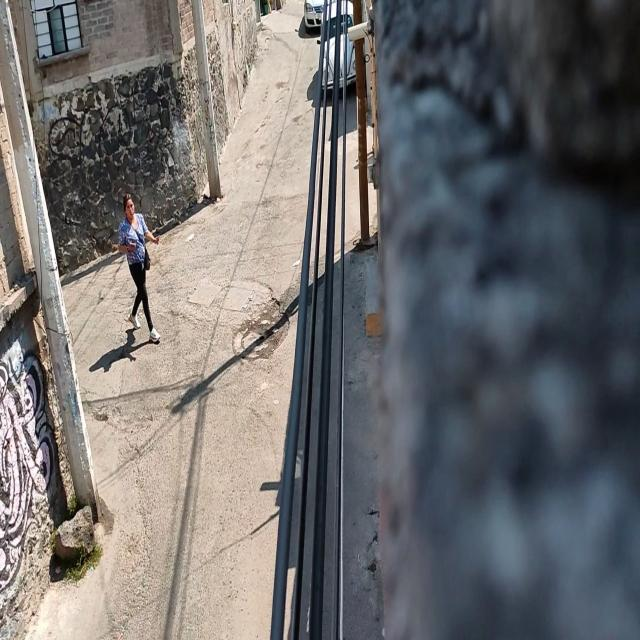adult: (117, 187, 161, 344)
